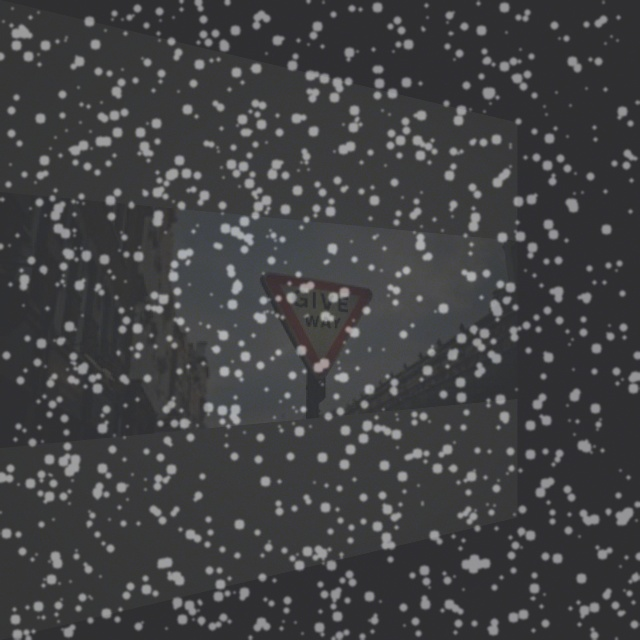Give_Way: (270, 271, 371, 379)
